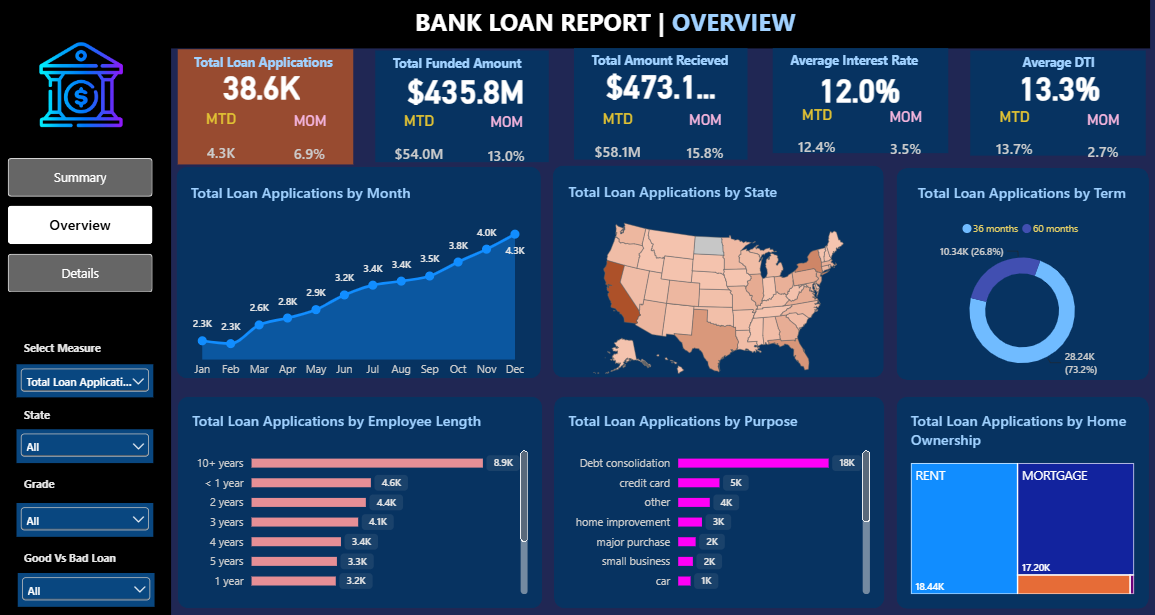

The page's visual inventory and layout, read from the dashboard file:
{"tool":"powerbi","page":{"name":"Overview","canvas":[1920,1080],"ordinal":1},"visuals":[{"type":"shape","box":[0,0,1279,56.3],"z":0},{"type":"shape","box":[639.3,56,192.8,124],"z":0,"group":"g3"},{"type":"shape","box":[859.8,56,195,117],"z":0,"group":"g4"},{"type":"shape","box":[198.5,56.9,195,128],"z":0,"group":"g1"},{"type":"shape","box":[418.9,58,192.8,124],"z":0,"group":"g2"},{"type":"shape","box":[1080.3,58.1,195,117],"z":0,"group":"g5"},{"type":"cardVisual","fields":{"Data":["bank_loan_data.Avg DTI"]},"box":[1099.1,76.9,159.5,47.6],"z":1000,"group":"g5"},{"type":"cardVisual","fields":{"Data":["bank_loan_data.Total Amount Received"]},"box":[658.9,78.3,158.2,40.3],"z":1000,"group":"g3"},{"type":"cardVisual","fields":{"Data":["bank_loan_data.Total Loan Applications"]},"box":[230.9,79.1,122.6,41.7],"z":1000,"group":"g1"},{"type":"cardVisual","fields":{"Data":["bank_loan_data.Total Funded Amount"]},"box":[437.3,82.5,162.4,40.7],"z":1000,"group":"g2"},{"type":"cardVisual","fields":{"Data":["bank_loan_data.Avg Interest Rate"]},"box":[876.5,83.2,159.5,38],"z":1000,"group":"g4"},{"type":"shape","box":[196.7,187.8,405,235],"z":1000},{"type":"shape","box":[0,54.9,191.5,638],"z":2000},{"type":"textbox","box":[878.4,60,176.7,30.2],"z":2000,"group":"g4"},{"type":"textbox","box":[657.7,60.2,174.8,32],"z":2000,"group":"g3"},{"type":"textbox","box":[1116.2,60.3,124.3,23],"z":2000,"group":"g5"},{"type":"textbox","box":[217.1,61.2,176.7,33.1],"z":2000,"group":"g1"},{"type":"textbox","box":[437.3,62.2,174.8,32],"z":2000,"group":"g2"},{"type":"textbox","box":[428.9,7.8,488.9,46.7],"z":3000},{"type":"cardVisual","title":"MTD","fields":{"Data":["bank_loan_data.MTD Avg Int Rate"]},"box":[857.9,120.3,101.2,53.6],"z":3000,"group":"g4"},{"type":"cardVisual","title":"MTD","fields":{"Data":["bank_loan_data.MTD Avg DTI"]},"box":[1078.4,122.4,101.2,53.6],"z":3000,"group":"g5"},{"type":"cardVisual","title":"MTD","fields":{"Data":["bank_loan_data.MTD Loan Applications"]},"box":[211.7,124,71.1,59.6],"z":3000,"group":"g1"},{"type":"cardVisual","title":"MTD","fields":{"Data":["bank_loan_data.MTD Total Amount Received"]},"box":[637.5,124.2,100.1,56.8],"z":3000,"group":"g3"},{"type":"cardVisual","title":"MTD","fields":{"Data":["bank_loan_data.MTD Funded Amount"]},"box":[417.1,126.2,100.1,56.8],"z":3000,"group":"g2"},{"type":"group","id":"g1","title":"Group 1","box":[198.5,56.9,195.3,128],"z":4000},{"type":"cardVisual","title":"MOM","fields":{"Data":["bank_loan_data.MoM Avg Int Rate"]},"box":[968.5,122,76.2,54.8],"z":4000,"group":"g4"},{"type":"cardVisual","title":"MOM","fields":{"Data":["bank_loan_data.MoM Avg DTI"]},"box":[1189,124.1,76.2,54.8],"z":4000,"group":"g5"},{"type":"cardVisual","title":"MOM","fields":{"Data":["bank_loan_data.MoM Total Amount Recieved"]},"box":[746.9,125.9,75.3,58.1],"z":4000,"group":"g3"},{"type":"cardVisual","title":"MOM","fields":{"Data":["bank_loan_data.MoM Loan Application"]},"box":[310.4,126.7,68.9,55.9],"z":4000,"group":"g1"},{"type":"cardVisual","title":"MOM","fields":{"Data":["bank_loan_data.MoM Total Funded Amount"]},"box":[526.5,127.9,75.3,58.1],"z":4000,"group":"g2"},{"type":"group","id":"g2","title":"Group 1","box":[417.1,58,195,128],"z":5000},{"type":"group","id":"g3","title":"Group 1","box":[637.5,56,195,128],"z":6000},{"type":"group","id":"g4","title":"Group 1","box":[857.9,56,197.2,120.7],"z":7000},{"type":"group","id":"g5","title":"Group 1","box":[1078.4,58.1,196.9,120.7],"z":8000},{"type":"slicer","fields":{"Values":["bank_loan_data.address_state"]},"box":[19.7,478.9,152.2,37.8],"z":9000},{"type":"textbox","box":[28.2,452.1,47.9,26.8],"z":10000},{"type":"slicer","fields":{"Values":["bank_loan_data.grade"]},"box":[19.7,560.6,152.2,37.8],"z":11000},{"type":"textbox","box":[28.2,529.6,47.9,31],"z":12000},{"type":"slicer","fields":{"Values":["bank_loan_data.Good v Bad Loan"]},"box":[21.1,639.4,152.2,37.8],"z":13000},{"type":"textbox","box":[28.2,611.3,119.7,28.2],"z":14000},{"type":"areaChart","fields":{"Category":["Date Table.Month"],"Y":["bank_loan_data.Total Loan Applications"]},"box":[196.9,190.4,404.7,251],"z":15000},{"type":"slicer","fields":{"Values":["Select Measure.Select Measure"]},"box":[19.7,407,152,37],"z":16000},{"type":"textbox","box":[28.2,377.5,90.1,29.6],"z":17000},{"type":"shape","box":[614.9,186.2,367.8,235.6],"z":18000},{"type":"shapeMap","fields":{"Category":["bank_loan_data.address_state"],"Value":["bank_loan_data.Total Loan Applications"]},"box":[616.8,188.3,365.7,253.2],"z":19000},{"type":"shape","box":[997.7,188.5,280.5,235.6],"z":20000},{"type":"donutChart","fields":{"Category":["bank_loan_data.term"],"Y":["bank_loan_data.Total Loan Applications"]},"box":[997.7,190.4,279.2,251],"z":21000},{"type":"shape","box":[198.8,442.5,405,235],"z":22000},{"type":"barChart","fields":{"Category":["bank_loan_data.emp_length"],"Y":["bank_loan_data.Total Loan Applications"]},"box":[198.9,442.5,405,235],"z":23000},{"type":"shape","box":[616.1,442.5,367,235],"z":24000},{"type":"barChart","fields":{"Category":["bank_loan_data.purpose"],"Y":["bank_loan_data.Total Loan Applications"]},"box":[616.1,442.5,367,235],"z":25000},{"type":"shape","box":[997.7,442.5,280.5,235.6],"z":26000},{"type":"treemap","fields":{"Group":["bank_loan_data.home_ownership"],"Values":["bank_loan_data.Total Loan Applications"]},"box":[997.7,442.5,280,235],"z":27000},{"type":"pageNavigator","box":[9.9,177.5,162,149.3],"z":28000},{"type":"image","box":[18.3,46.5,146.5,107],"z":29000}]}

Visuals, with their boxes on the page's 1920x1080 design canvas (x1, y1, x2, y2). These are canvas units, not pixel positions in the 1155x615 screenshot, which may show the page scaled, cropped or inside an application window:
shape: Rect(0, 0, 1279, 56)
shape: Rect(639, 56, 832, 180)
shape: Rect(860, 56, 1055, 173)
shape: Rect(198, 57, 394, 185)
shape: Rect(419, 58, 612, 182)
shape: Rect(1080, 58, 1275, 175)
cardVisual - bank_loan_data.Avg DTI: Rect(1099, 77, 1259, 124)
cardVisual - bank_loan_data.Total Amount Received: Rect(659, 78, 817, 119)
cardVisual - bank_loan_data.Total Loan Applications: Rect(231, 79, 354, 121)
cardVisual - bank_loan_data.Total Funded Amount: Rect(437, 82, 600, 123)
cardVisual - bank_loan_data.Avg Interest Rate: Rect(876, 83, 1036, 121)
shape: Rect(197, 188, 602, 423)
shape: Rect(0, 55, 192, 693)
textbox: Rect(878, 60, 1055, 90)
textbox: Rect(658, 60, 832, 92)
textbox: Rect(1116, 60, 1240, 83)
textbox: Rect(217, 61, 394, 94)
textbox: Rect(437, 62, 612, 94)
textbox: Rect(429, 8, 918, 54)
"MTD" cardVisual: Rect(858, 120, 959, 174)
"MTD" cardVisual: Rect(1078, 122, 1180, 176)
"MTD" cardVisual: Rect(212, 124, 283, 184)
"MTD" cardVisual: Rect(638, 124, 738, 181)
"MTD" cardVisual: Rect(417, 126, 517, 183)
"Group 1" group: Rect(198, 57, 394, 185)
"MOM" cardVisual: Rect(968, 122, 1045, 177)
"MOM" cardVisual: Rect(1189, 124, 1265, 179)
"MOM" cardVisual: Rect(747, 126, 822, 184)
"MOM" cardVisual: Rect(310, 127, 379, 183)
"MOM" cardVisual: Rect(526, 128, 602, 186)
"Group 1" group: Rect(417, 58, 612, 186)
"Group 1" group: Rect(638, 56, 832, 184)
"Group 1" group: Rect(858, 56, 1055, 177)
"Group 1" group: Rect(1078, 58, 1275, 179)
slicer - bank_loan_data.address_state: Rect(20, 479, 172, 517)
textbox: Rect(28, 452, 76, 479)
slicer - bank_loan_data.grade: Rect(20, 561, 172, 598)
textbox: Rect(28, 530, 76, 561)
slicer - bank_loan_data.Good v Bad Loan: Rect(21, 639, 173, 677)
textbox: Rect(28, 611, 148, 640)
areaChart - Date Table.Month x bank_loan_data.Total Loan Applications: Rect(197, 190, 602, 441)
slicer - Select Measure.Select Measure: Rect(20, 407, 172, 444)
textbox: Rect(28, 378, 118, 407)
shape: Rect(615, 186, 983, 422)
shapeMap - bank_loan_data.address_state x bank_loan_data.Total Loan Applications: Rect(617, 188, 982, 442)
shape: Rect(998, 188, 1278, 424)
donutChart - bank_loan_data.term x bank_loan_data.Total Loan Applications: Rect(998, 190, 1277, 441)
shape: Rect(199, 442, 604, 678)
barChart - bank_loan_data.emp_length x bank_loan_data.Total Loan Applications: Rect(199, 442, 604, 678)
shape: Rect(616, 442, 983, 678)
barChart - bank_loan_data.purpose x bank_loan_data.Total Loan Applications: Rect(616, 442, 983, 678)
shape: Rect(998, 442, 1278, 678)
treemap - bank_loan_data.home_ownership x bank_loan_data.Total Loan Applications: Rect(998, 442, 1278, 678)
pageNavigator: Rect(10, 178, 172, 327)
image: Rect(18, 46, 165, 154)
